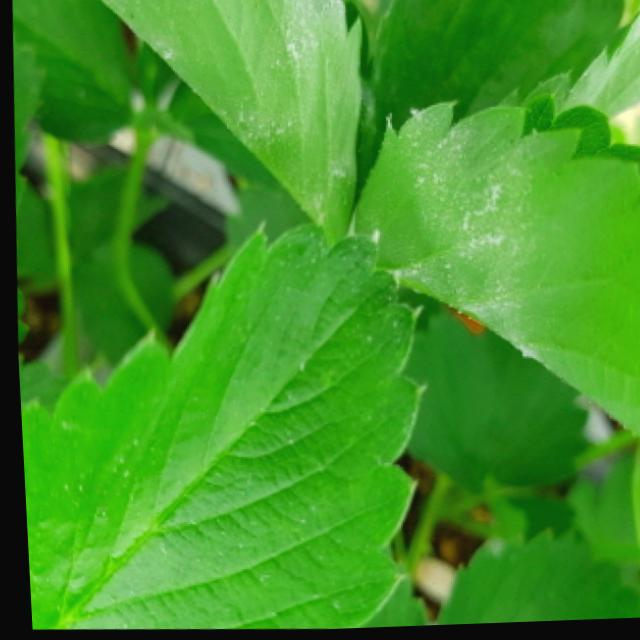Powdery Mildew Leaf: (341, 95, 640, 445), (98, 0, 362, 244)
